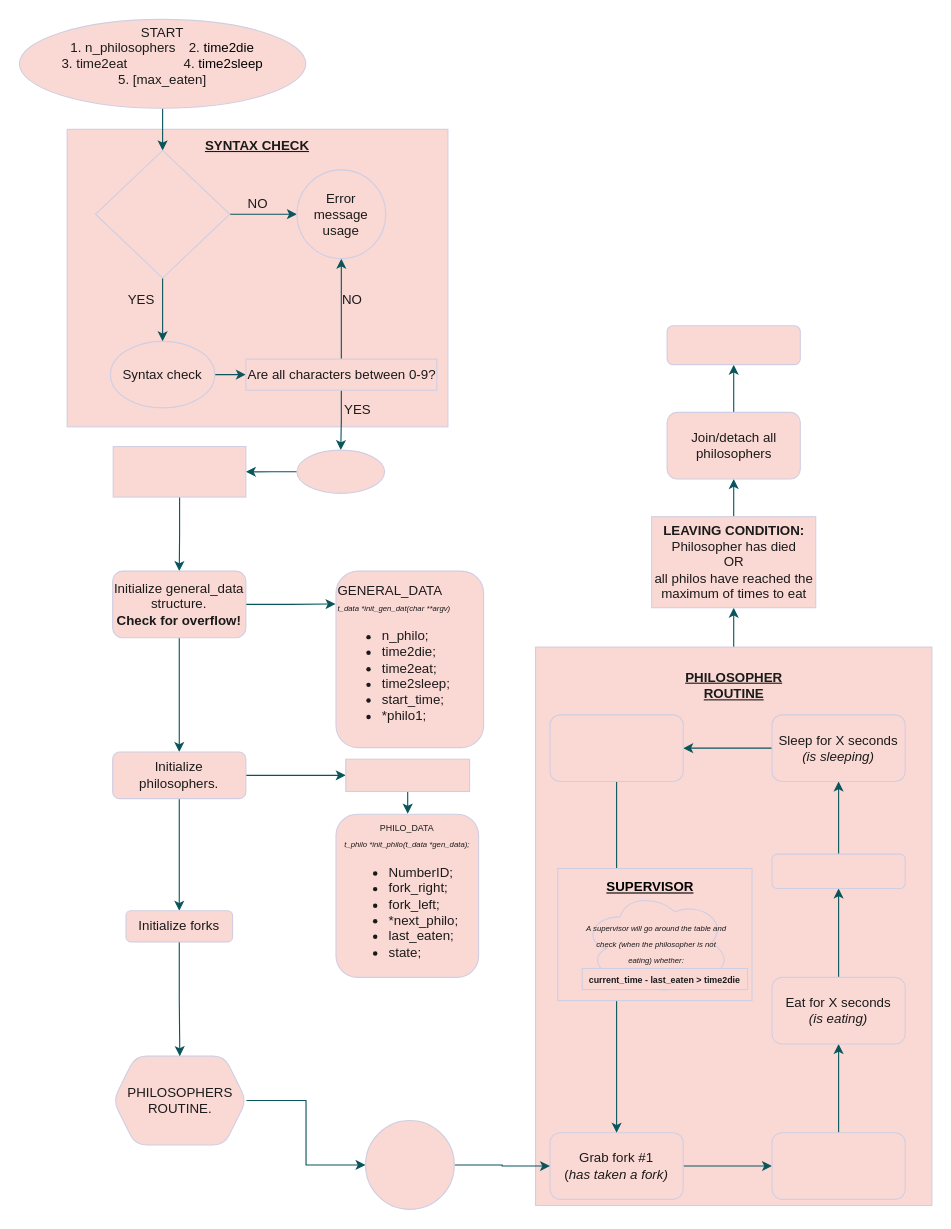
This 951x1229 diagram has some shape labels left out. The centre of each missing label's shape, as x and y in pixels:
"ARGC == 4 OR ARGC == 5" belongs at [162,213].
"Destroy all forks" belongs at [733,345].
"for str in argv ft_atoi(argv[i])" belongs at [179,471].
"Grab fork #2 ( has taken a fork)" belongs at [838,1165].
"Let go of fork #1 & #2" belongs at [838,871].
"Parsing" belongs at [340,471].
"PHILOS START HERE" belongs at [409,1164].
"Think until fork #1 is available (is thinking)" belongs at [616,747].
"while (i < data->n_philo)" belongs at [407,774].
